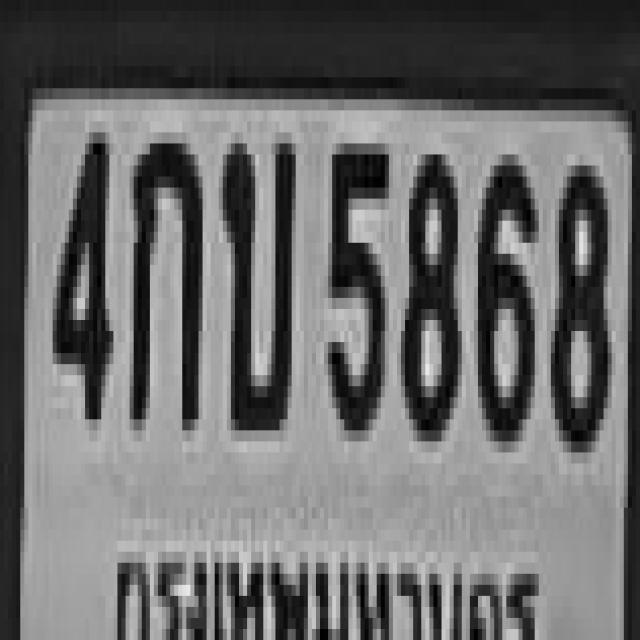10GorGai: (125, 133, 198, 420)
35BorBaiMai: (218, 133, 292, 420)
4: (51, 122, 107, 420)
5: (324, 132, 385, 430)
6: (474, 144, 531, 430)
8: (397, 144, 454, 430), (547, 154, 603, 442)
